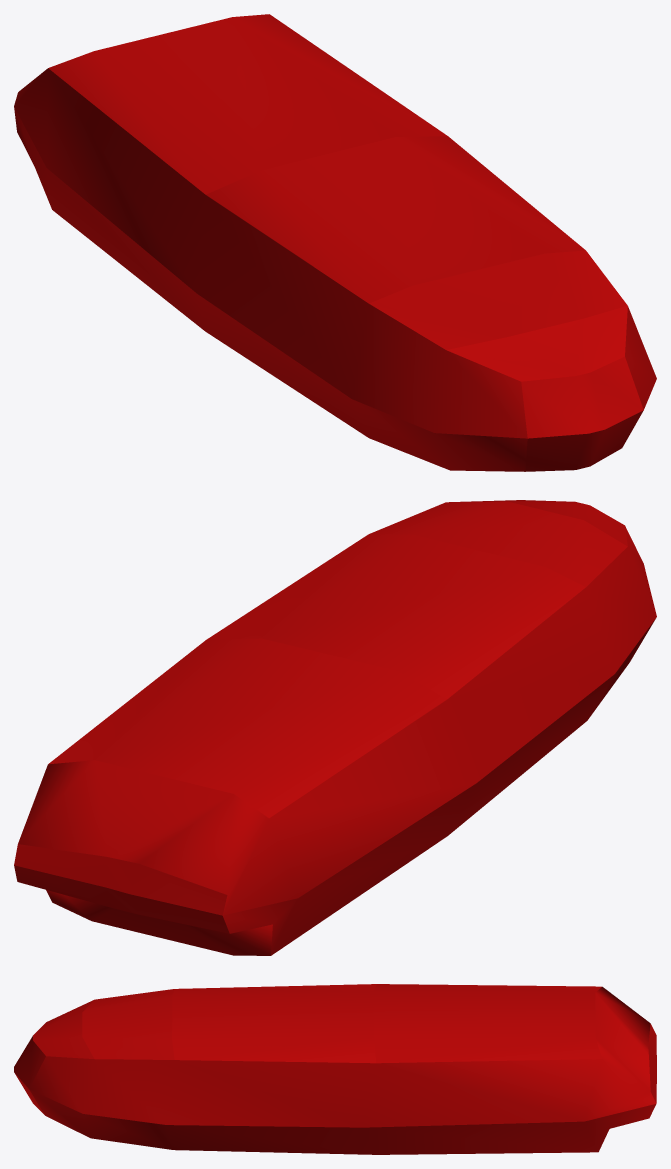
Rendered from charon_boat_mask.fbx.
3 views of the same model, one above another, from view 1: azimuth 30°, elevation 25°; view 2: azimuth 150°, elevation 25°; view 3: azimuth 270°, elevation 25° (orthographic). The views are drawn at different scales.
Visible parts, largest first — view 1: SM_Veh_Boat_Small_01_Hull_Pirate_Collision; view 2: SM_Veh_Boat_Small_01_Hull_Pirate_Collision; view 3: SM_Veh_Boat_Small_01_Hull_Pirate_Collision.
Part boxes in pixels (x1,y1,x2,y2): SM_Veh_Boat_Small_01_Hull_Pirate_Collision: (14,14,656,471); SM_Veh_Boat_Small_01_Hull_Pirate_Collision: (14,500,656,955); SM_Veh_Boat_Small_01_Hull_Pirate_Collision: (14,984,656,1154).
Bounding box in the file's own units: 261 × 146 × 774.
